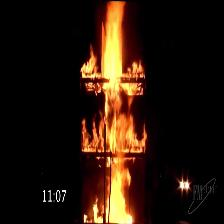fire: (98, 0, 133, 222)
